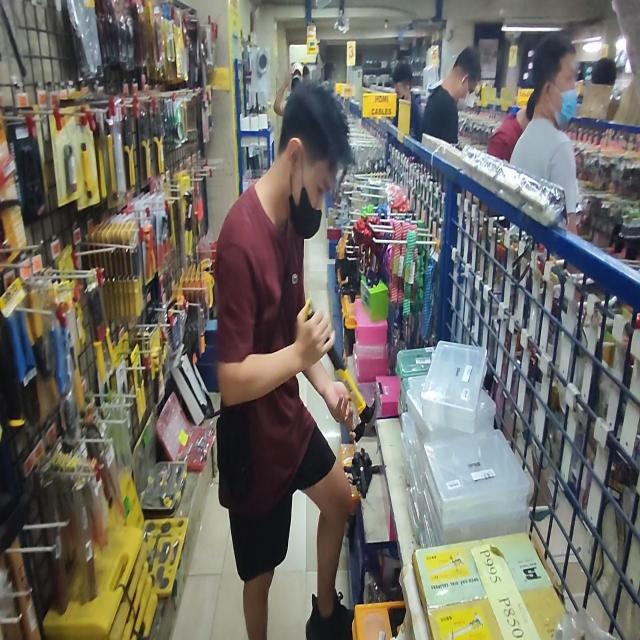hammer: (304, 298, 377, 442)
